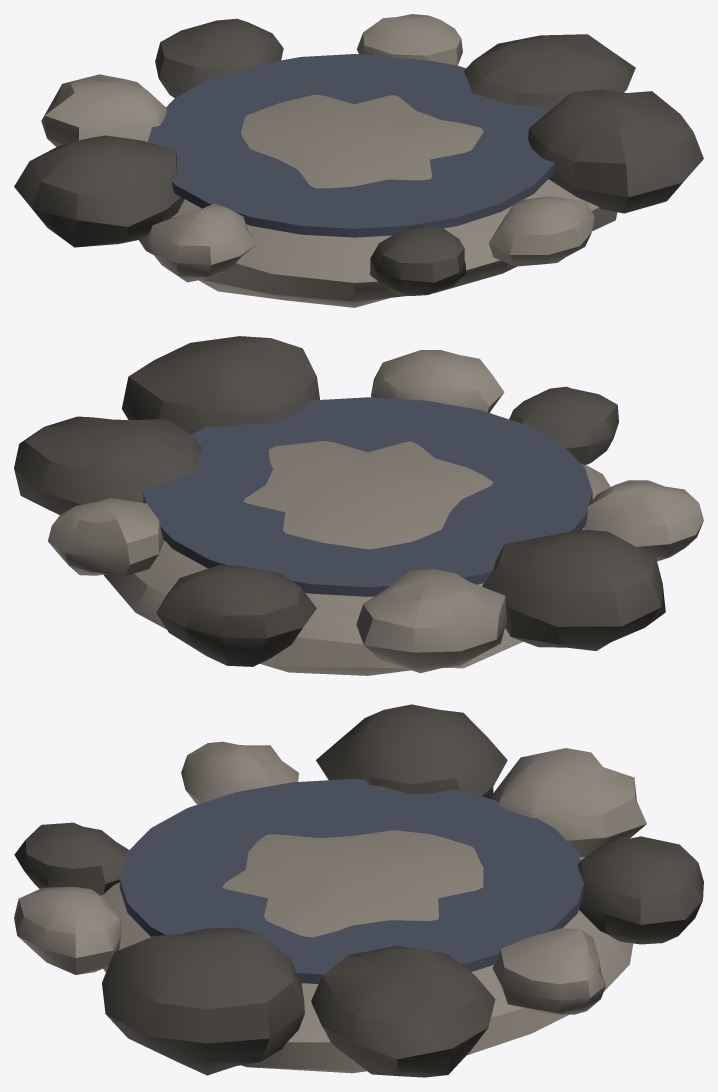
File: bohrsockel.obj
3 renders of one model, top to bottom at view 1: azimuth 30°, elevation 25°; view 2: azimuth 150°, elevation 25°; view 3: azimuth 270°, elevation 25°, orthographic. The views are drawn at different scales.
Parts seen in each view (by area): view 1: bohrsockel_Koerper; view 2: bohrsockel_Koerper; view 3: bohrsockel_Koerper.
Boxes of the visible parts, x1,y1,x2,y2 form: bohrsockel_Koerper: [14, 14, 703, 307]; bohrsockel_Koerper: [14, 336, 703, 675]; bohrsockel_Koerper: [14, 704, 703, 1077].
Size of the model in its own units: 5.67 by 1.24 by 5.03.
